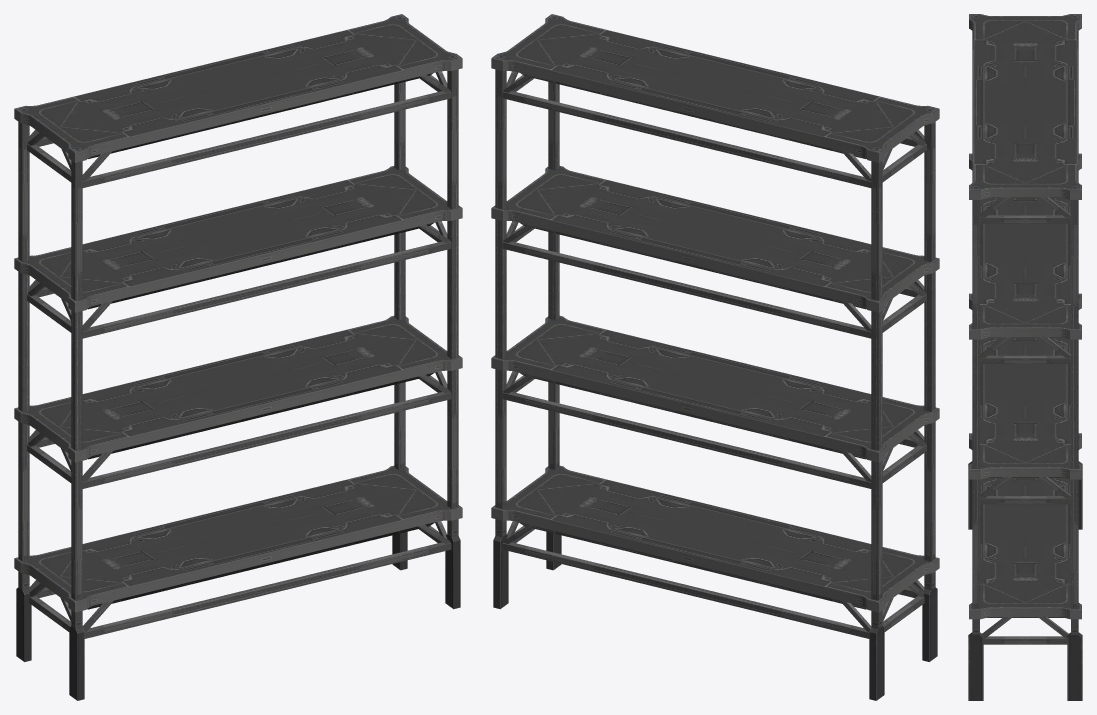
The model's file is shelves.glb.
The picture shows the model from 3 angles, left to right: view 1: azimuth 30°, elevation 25°; view 2: azimuth 150°, elevation 25°; view 3: azimuth 270°, elevation 25°; orthographic projection. The views are drawn at different scales.
Parts seen in each view (by area): view 1: Prop_Shelves_WideTall; view 2: Prop_Shelves_WideTall; view 3: Prop_Shelves_WideTall.
Part boxes in pixels (left/top/right/bottom): Prop_Shelves_WideTall: left=14, top=14, right=462, bottom=700; Prop_Shelves_WideTall: left=491, top=14, right=939, bottom=700; Prop_Shelves_WideTall: left=968, top=14, right=1082, bottom=700.
Size of the model in its own units: 1.98 by 2.67 by 0.5407.
Materials: 1 (1 with a texture image).
